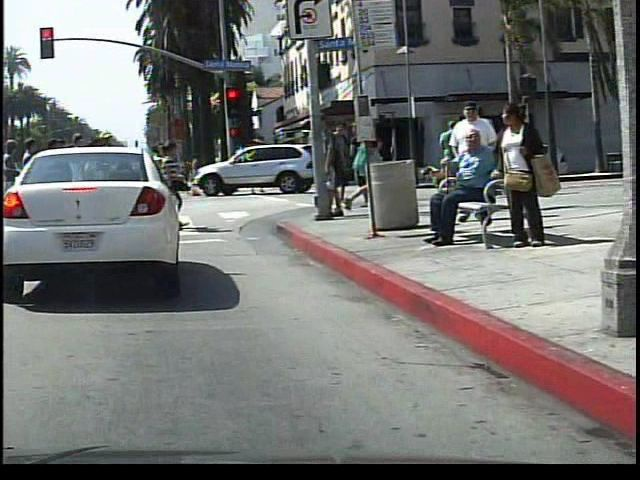person: (416, 129, 501, 255), (485, 100, 552, 255), (335, 113, 383, 213), (234, 146, 260, 197)
